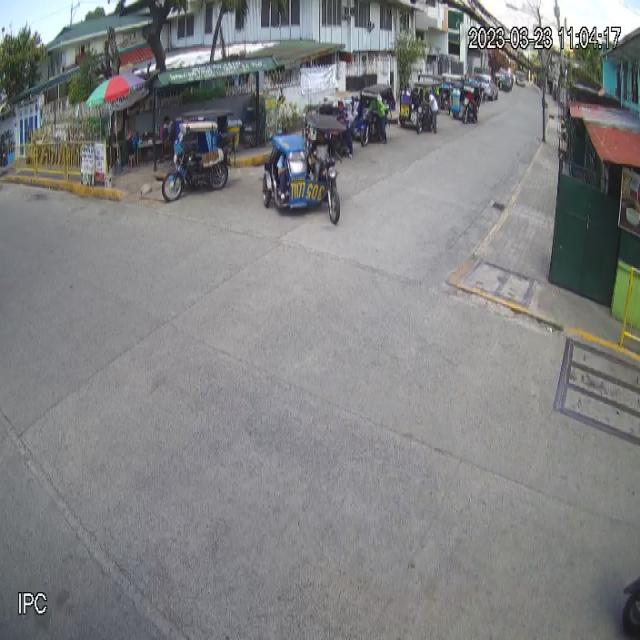Tricycle: (262, 114, 347, 226), (160, 115, 231, 205)
